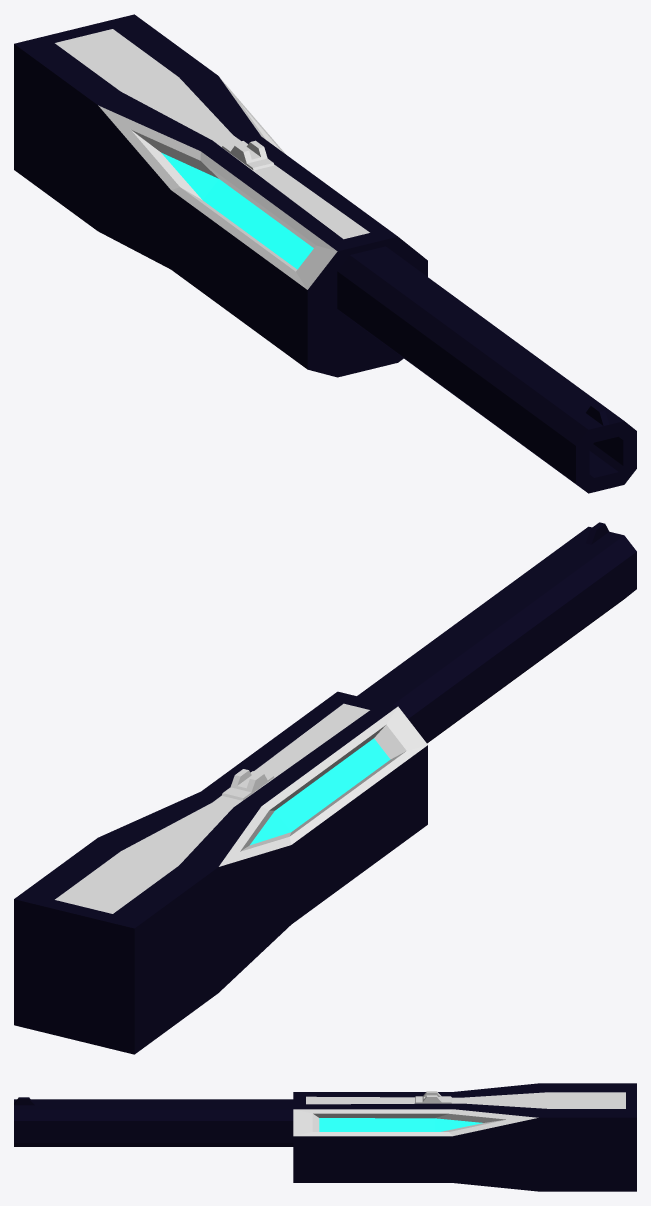
Rendered from rifle.fbx.
3 views of the same model, one above another, from view 1: azimuth 30°, elevation 25°; view 2: azimuth 150°, elevation 25°; view 3: azimuth 270°, elevation 25° (orthographic). The views are drawn at different scales.
Visible parts, largest first — view 1: Cube.005; view 2: Cube.005; view 3: Cube.005.
Boxes of the visible parts, x1=… form: Cube.005: x1=14, y1=14, x2=636, y2=493; Cube.005: x1=14, y1=522, x2=636, y2=1054; Cube.005: x1=14, y1=1083, x2=636, y2=1191.
Size of the model in its own units: 36.6 by 39.8 by 280.
